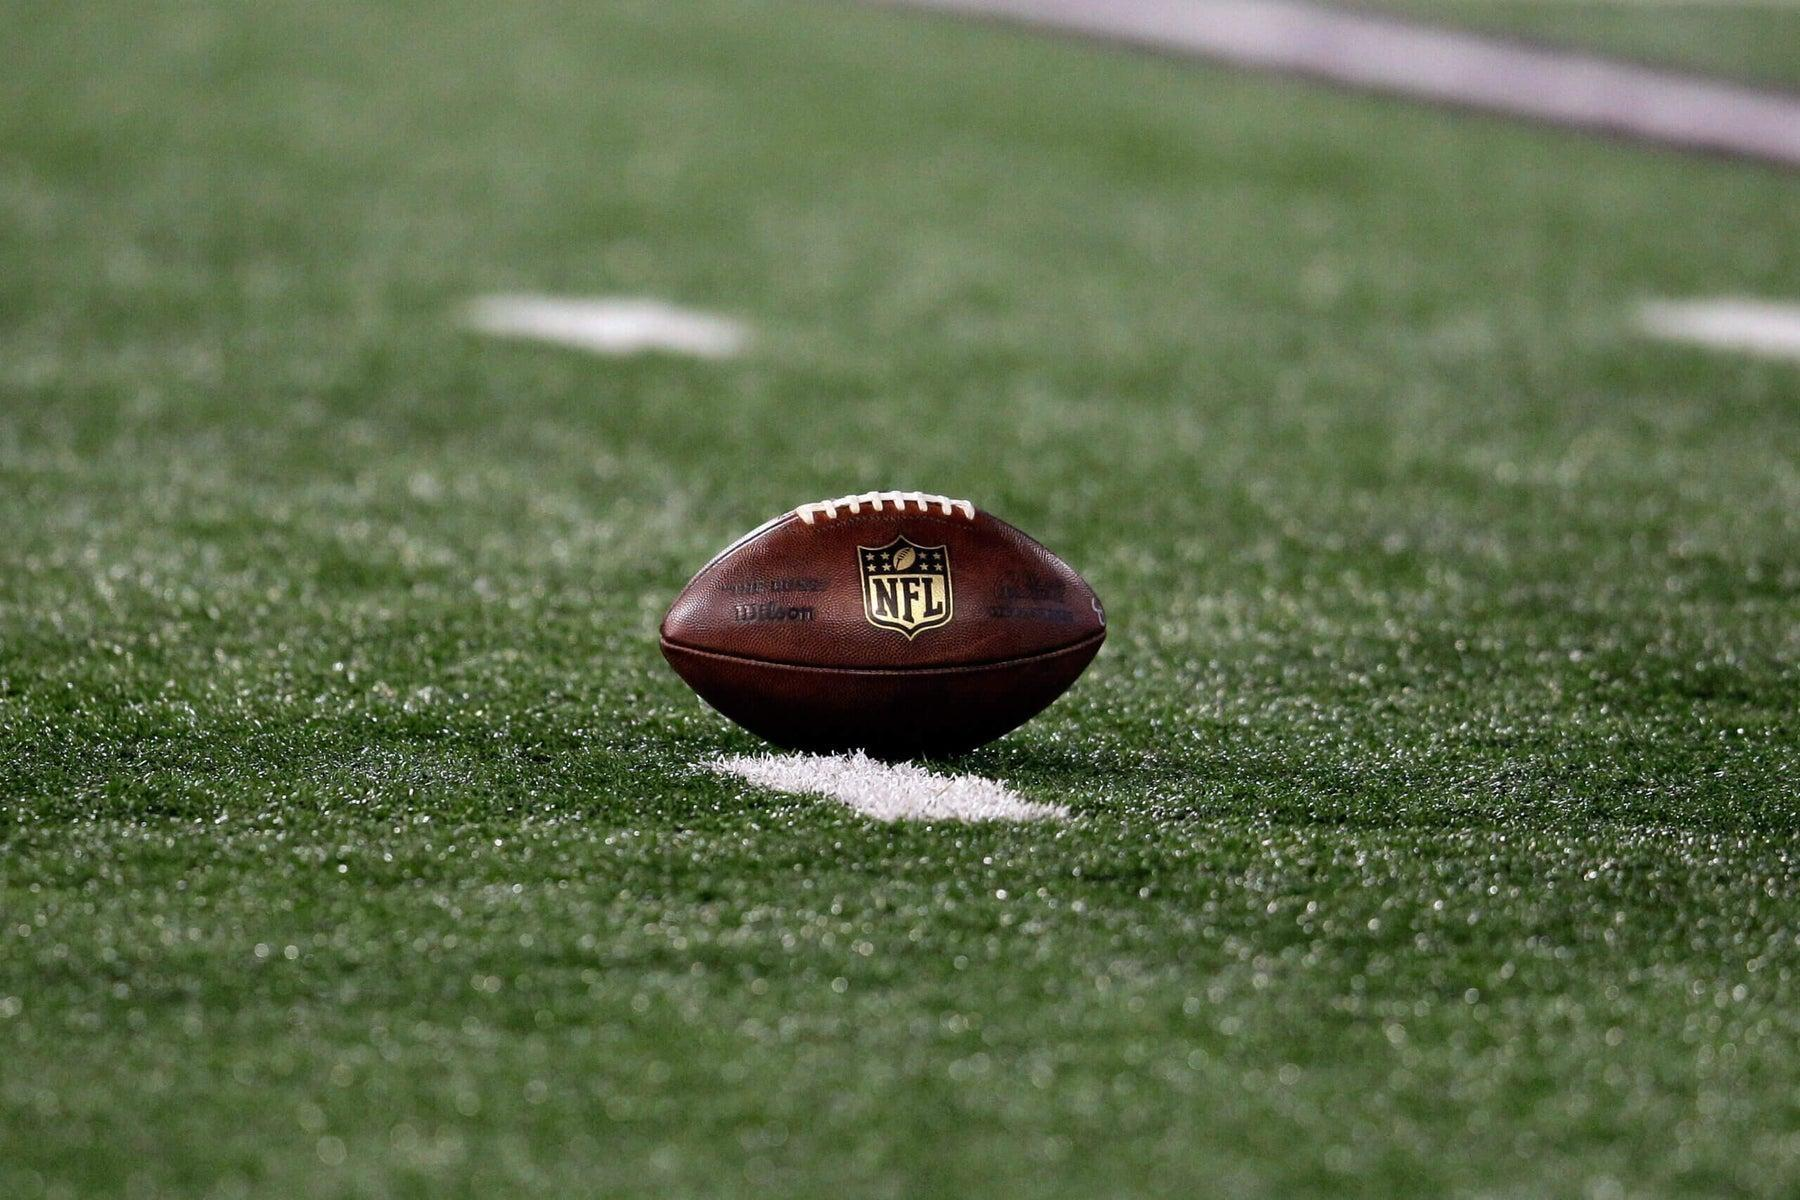Sports-Ball: (662, 493, 1108, 759)
